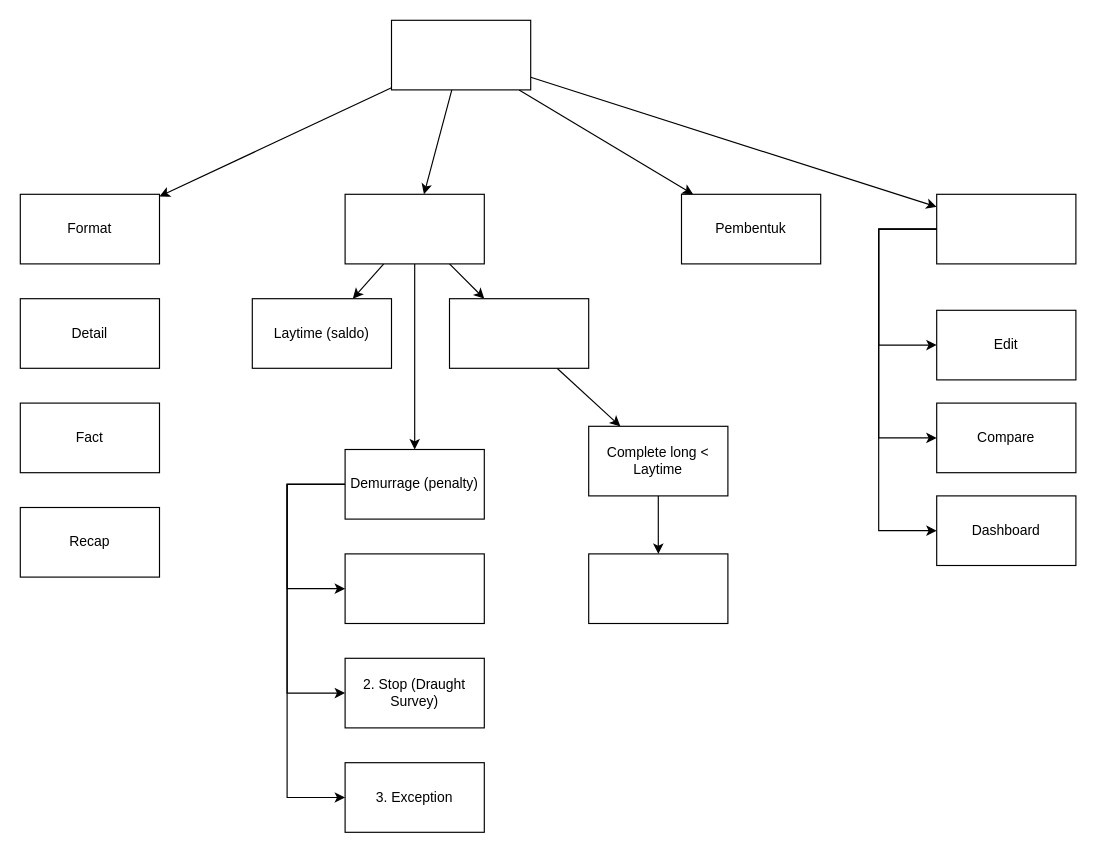
This 1096x853 diagram has some shape labels left out. Here are the shapes that lost their labels. From the top down, the centre of each, then its label:
point 460,54: Laytime Calculation
point 414,228: Rumus
point 1006,228: Feature
point 518,333: Despatch
point 414,588: 1. Start
point 658,588: Warna Kapal
